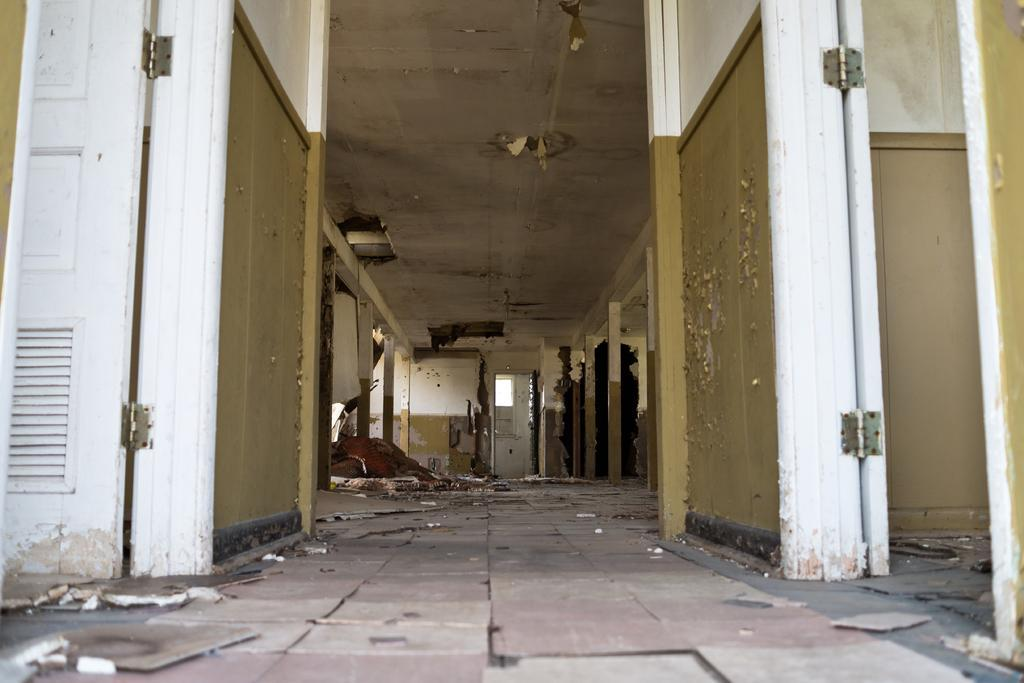door: (0, 23, 132, 586), (884, 138, 968, 542)
